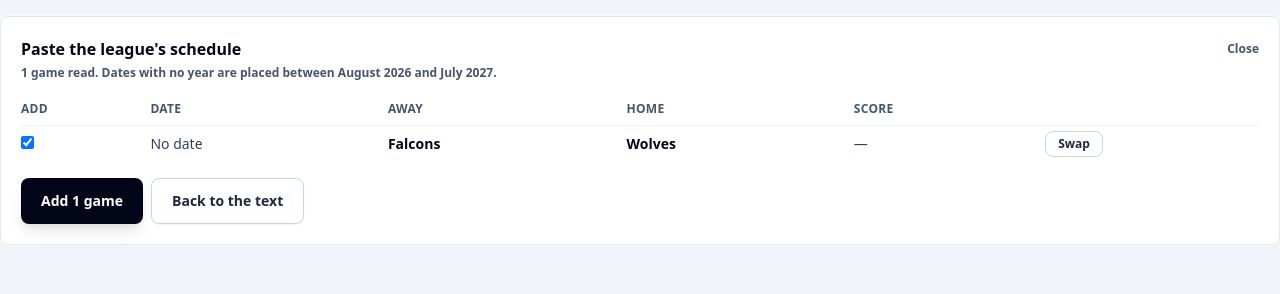
Test case: pasting the league's schedule › says so, and keeps the games, when App does not take them
The image size is (1280, 294).
Click the button "Add 1 game" at (82, 201), box [21, 178, 143, 224]
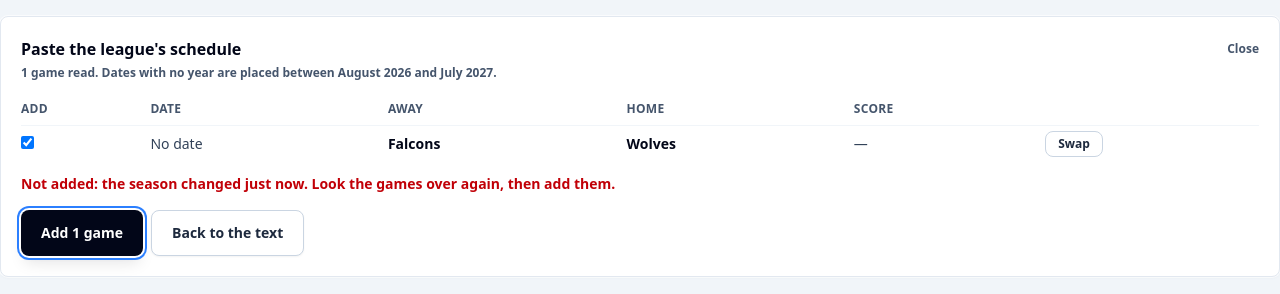
Expected: the checkbox named "Add Falcons at Wolves" is checked, [21, 136, 34, 149]
Expected: the message shows "the season changed just now", [21, 174, 615, 193]
